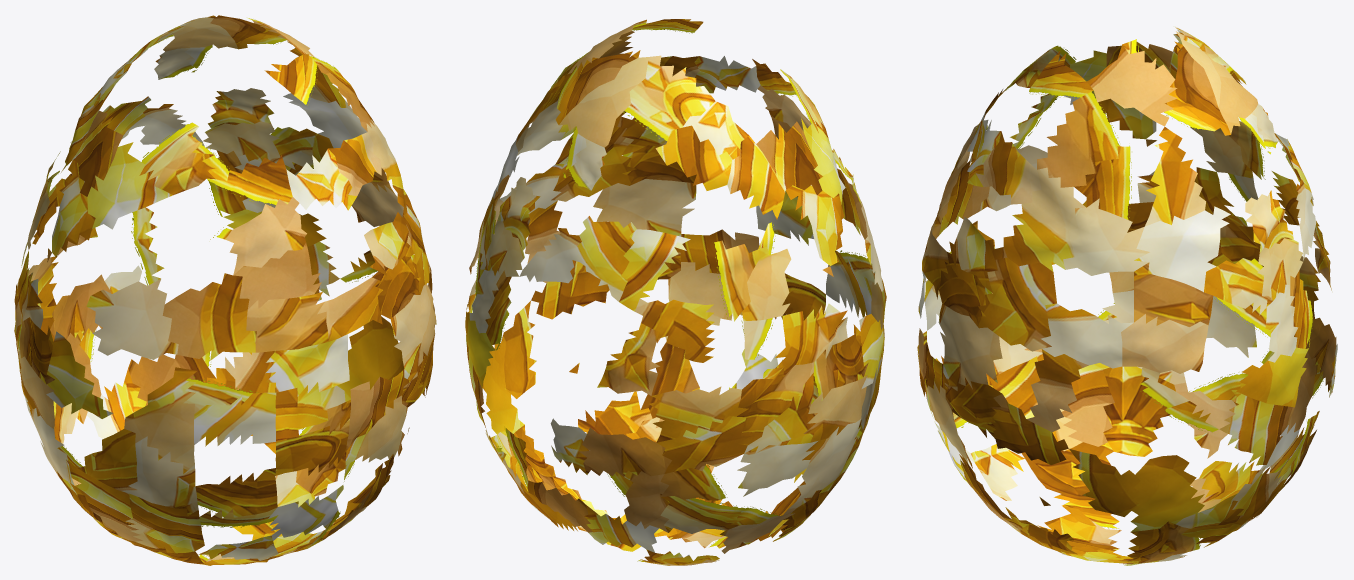
The model's file is gilded_egg.obj.
3 renders of one model, left to right at view 1: azimuth 30°, elevation 25°; view 2: azimuth 150°, elevation 25°; view 3: azimuth 270°, elevation 25°, orthographic.
Parts seen in each view (by area): view 1: gilded_egg; view 2: gilded_egg; view 3: gilded_egg.
Part boxes in pixels (x1,y1,x2,y2): gilded_egg: [14, 15, 436, 565]; gilded_egg: [465, 19, 886, 565]; gilded_egg: [917, 27, 1337, 565].
Size of the model in its own units: 1.4 by 1.91 by 1.41.
